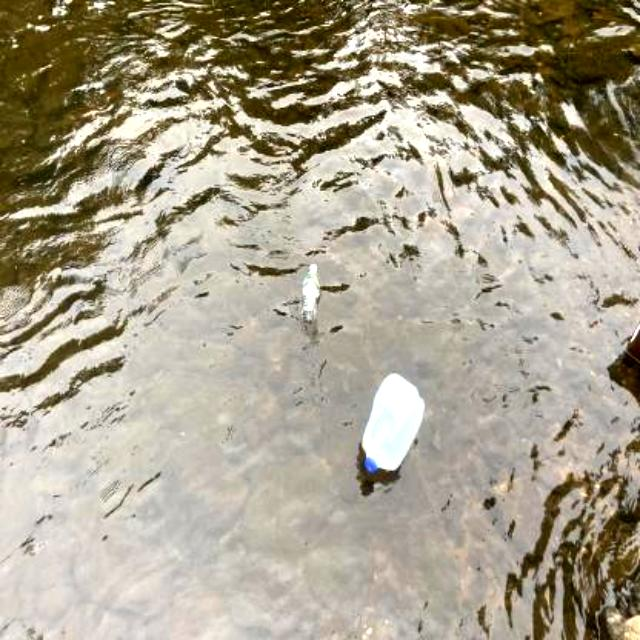Plastic: (356, 367, 430, 479), (292, 259, 326, 335)
